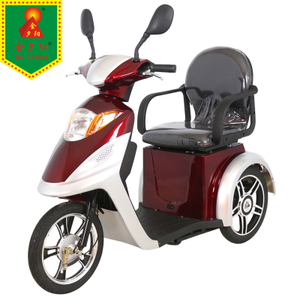电动车: (18, 3, 279, 296)
